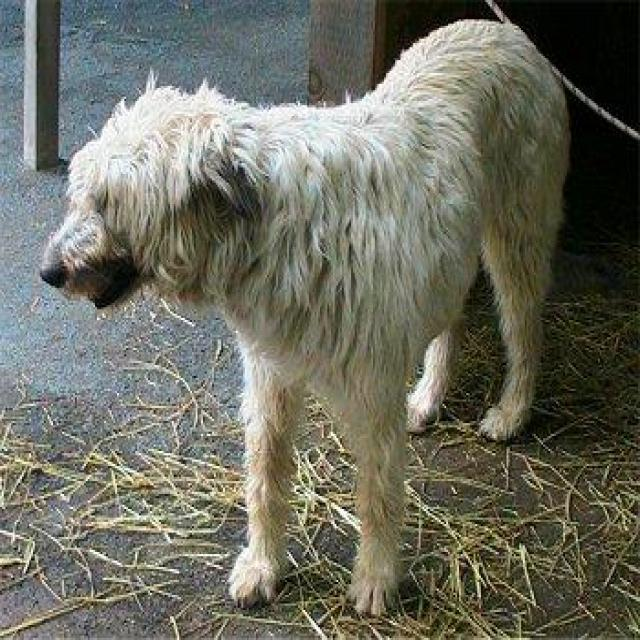irish_wolfhound: (42, 19, 565, 616)
